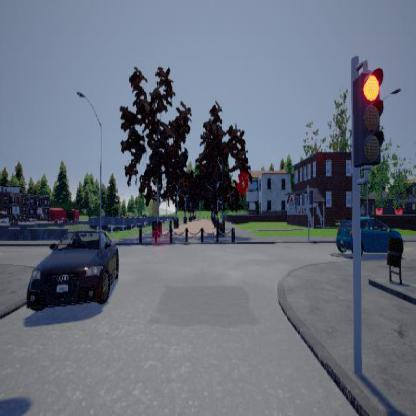traffic_light_red: (352, 58, 384, 184)
vehicle: (25, 228, 118, 311), (335, 215, 402, 255)
